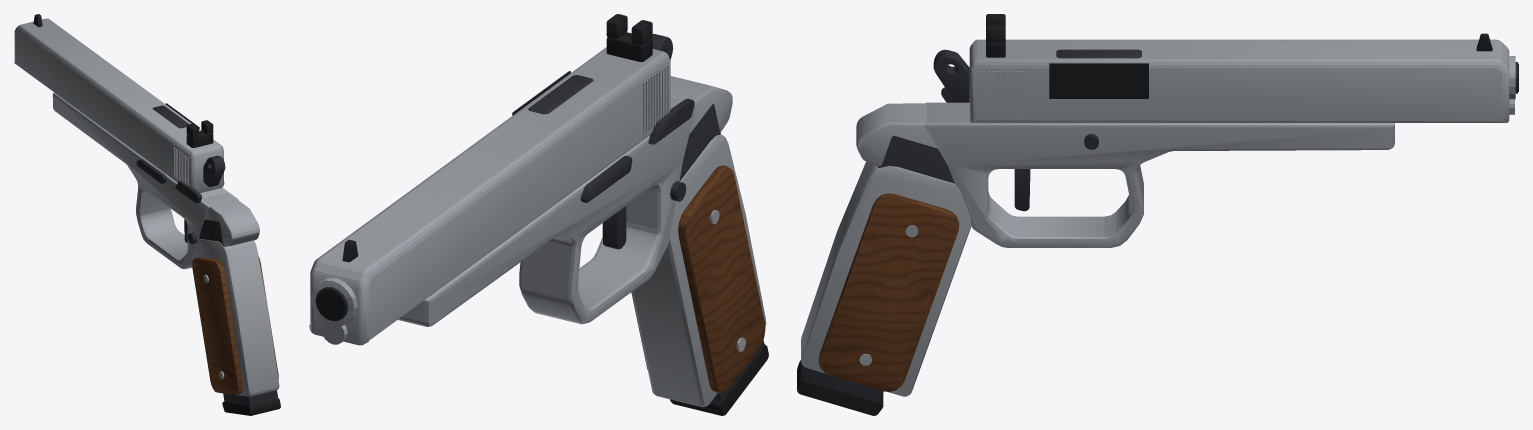
3 views of the same model, side by side, from view 1: azimuth 30°, elevation 25°; view 2: azimuth 150°, elevation 25°; view 3: azimuth 270°, elevation 25° (orthographic). The views are drawn at different scales.
Visible parts, largest first — view 1: body_steel_4, slide_steel_0, body_woodGrip_5, body_metal_6, mag_metal_7, slide_dark_3, mag_poly_8, slide_metal_2; view 2: slide_steel_0, body_steel_4, body_woodGrip_5, body_metal_6, slide_dark_3, mag_metal_7, slide_metal_2, mag_poly_8, slide_poly_1; view 3: slide_steel_0, body_steel_4, body_woodGrip_5, slide_poly_1, mag_metal_7, body_metal_6, mag_poly_8, slide_dark_3, slide_metal_2.
Part boxes in pixels (bbox=[...]): body_steel_4: bbox=[52, 92, 279, 396]; slide_steel_0: bbox=[14, 18, 224, 192]; body_woodGrip_5: bbox=[192, 256, 278, 394]; body_metal_6: bbox=[136, 155, 225, 244]; mag_metal_7: bbox=[199, 219, 278, 405]; slide_dark_3: bbox=[33, 14, 213, 147]; mag_poly_8: bbox=[222, 398, 280, 415]; slide_metal_2: bbox=[152, 105, 188, 128]; slide_steel_0: bbox=[309, 47, 670, 345]; body_steel_4: bbox=[398, 76, 766, 407]; body_woodGrip_5: bbox=[631, 165, 765, 393]; body_metal_6: bbox=[580, 34, 694, 249]; slide_dark_3: bbox=[342, 14, 652, 262]; mag_metal_7: bbox=[679, 103, 764, 401]; slide_metal_2: bbox=[315, 75, 593, 321]; mag_poly_8: bbox=[670, 344, 768, 415]; slide_poly_1: bbox=[316, 71, 570, 319]; slide_steel_0: bbox=[969, 39, 1515, 122]; body_steel_4: bbox=[801, 102, 1394, 396]; body_woodGrip_5: bbox=[818, 193, 959, 391]; slide_poly_1: bbox=[1049, 63, 1518, 98]; mag_metal_7: bbox=[801, 136, 954, 401]; body_metal_6: bbox=[933, 49, 1098, 211]; mag_poly_8: bbox=[797, 360, 883, 415]; slide_dark_3: bbox=[986, 14, 1492, 57]; slide_metal_2: bbox=[1056, 49, 1517, 93].
Size of the model in its own units: 0.0312 by 0.1706 by 0.2902.
6 materials, 1 textured.
